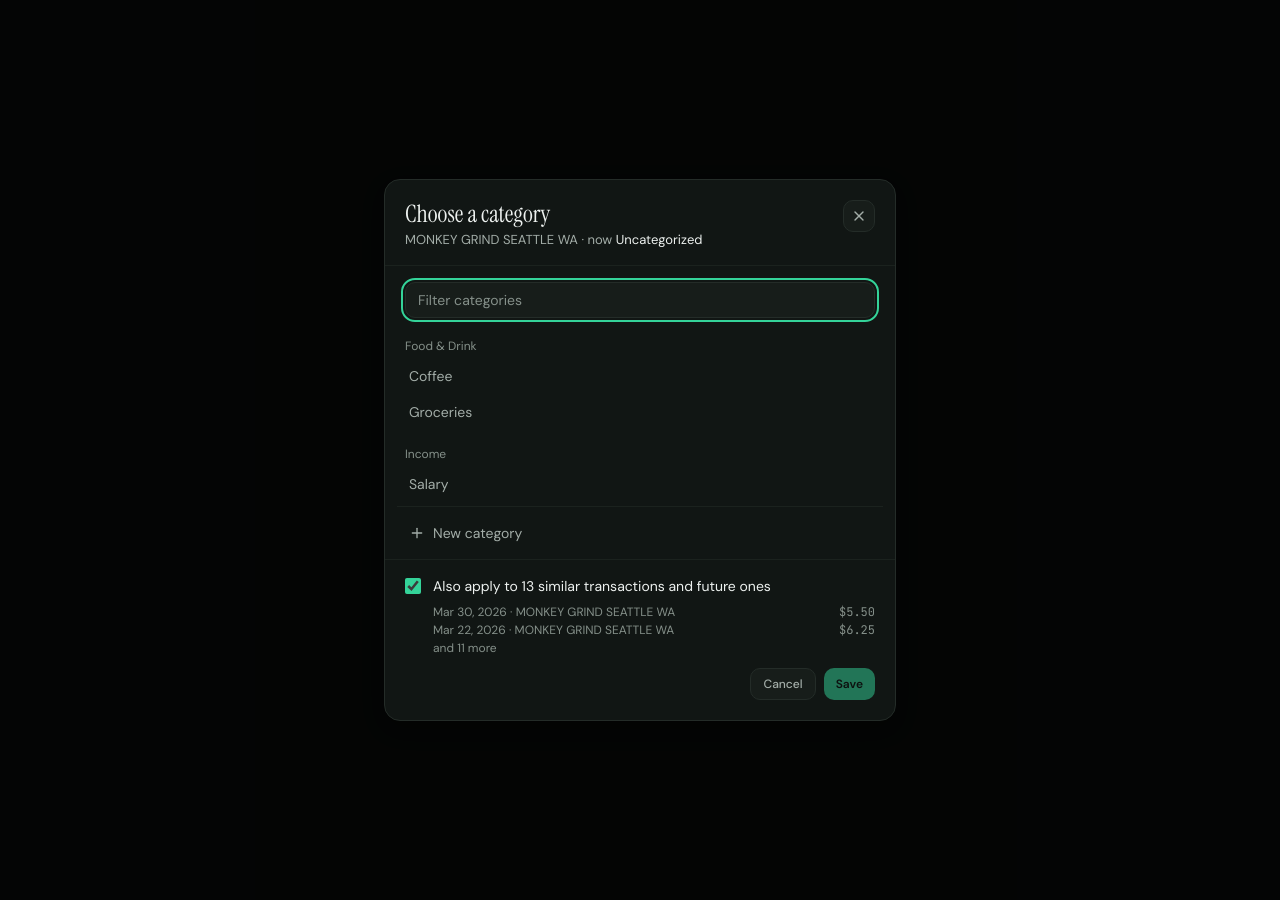
Scenario: CategoryPicker › shows a failed save inline and stays open
Click the radio button labelled "Coffee" at (431, 376), box [397,358,883,394]
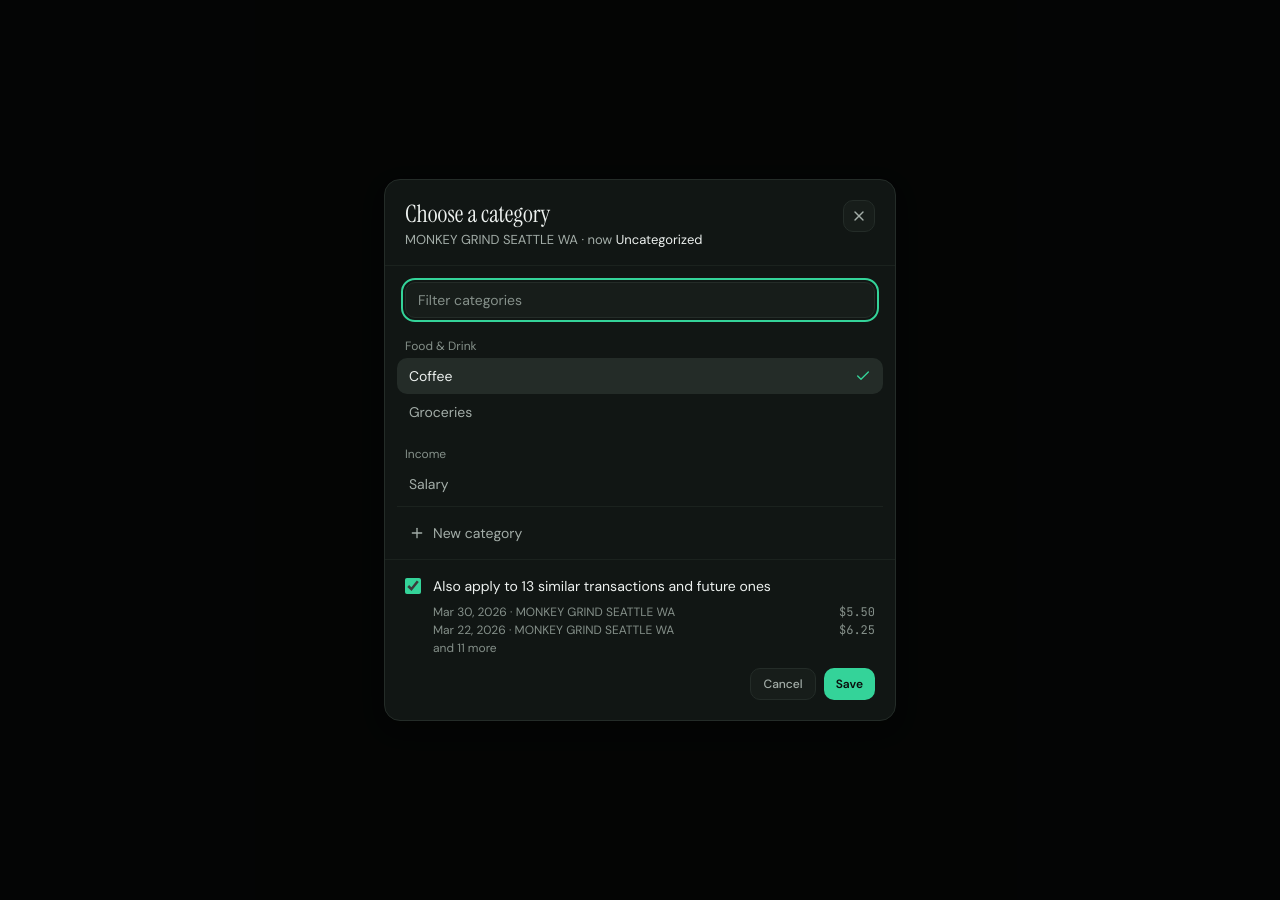
Click the button "Save" at (849, 684), box [824,668,875,700]
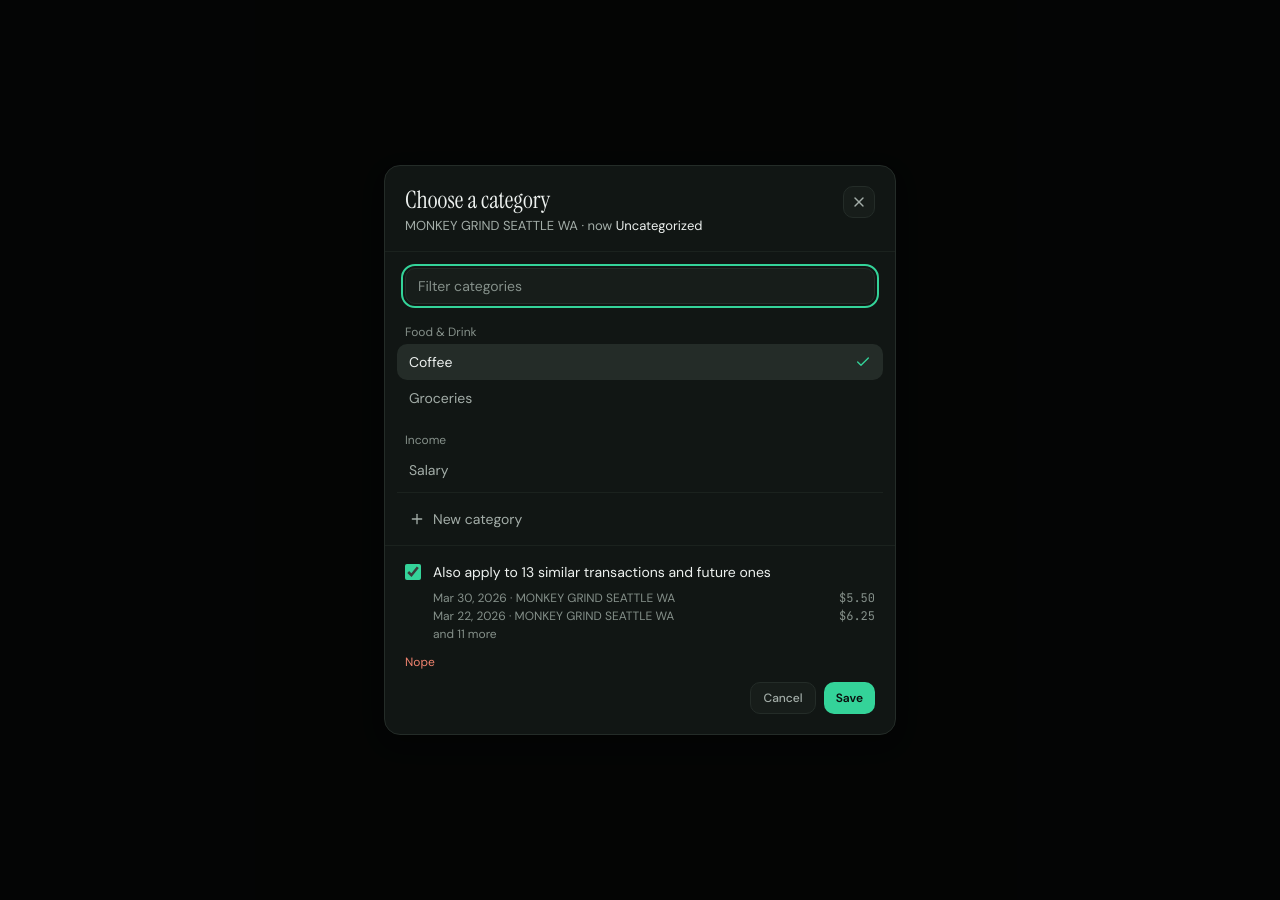
Now the message reads "Nope", box [405,654,435,670]
